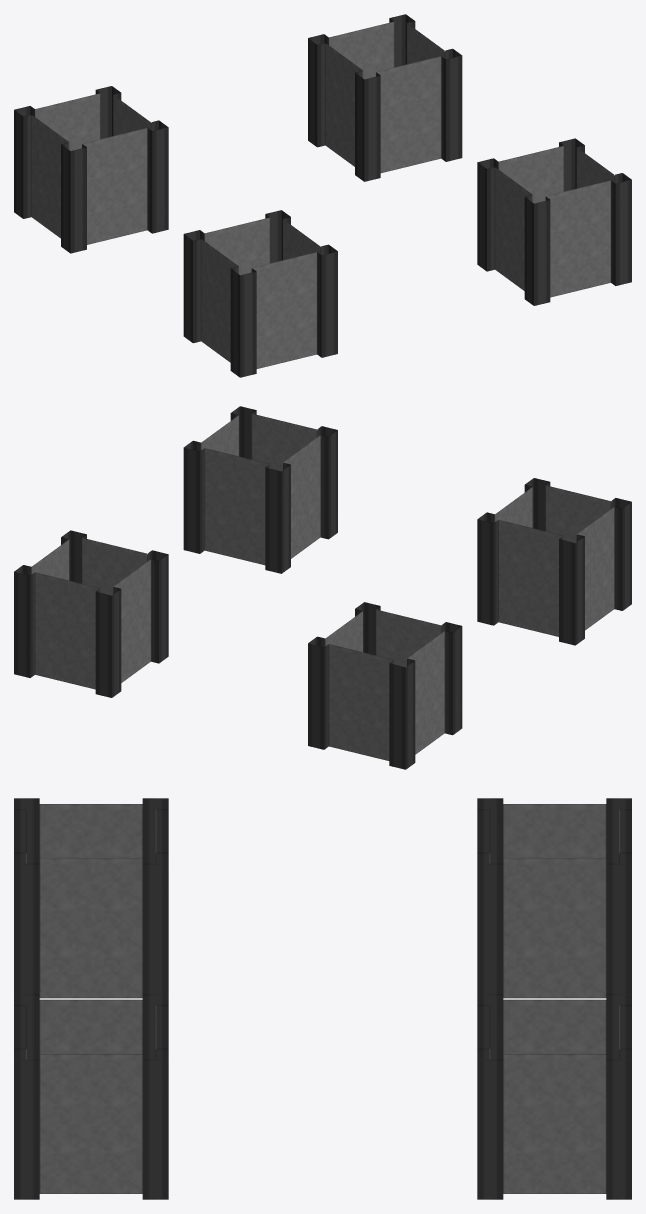
The model's file is soyuz_launcher_legs.obj.
3 renders of one model, top to bottom at view 1: azimuth 30°, elevation 25°; view 2: azimuth 150°, elevation 25°; view 3: azimuth 270°, elevation 25°, orthographic. The views are drawn at different scales.
Parts seen in each view (by area): view 1: Cube.003_Cube.009; view 2: Cube.003_Cube.009; view 3: Cube.003_Cube.009.
Part boxes in pixels (bbox=[...]): Cube.003_Cube.009: bbox=[14, 14, 631, 377]; Cube.003_Cube.009: bbox=[14, 406, 631, 769]; Cube.003_Cube.009: bbox=[14, 798, 631, 1199].
Size of the model in its own units: 12 by 3 by 12.
